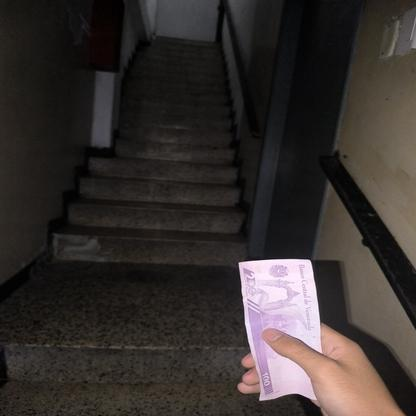one_hundred-back-vef: (238, 258, 323, 402)
